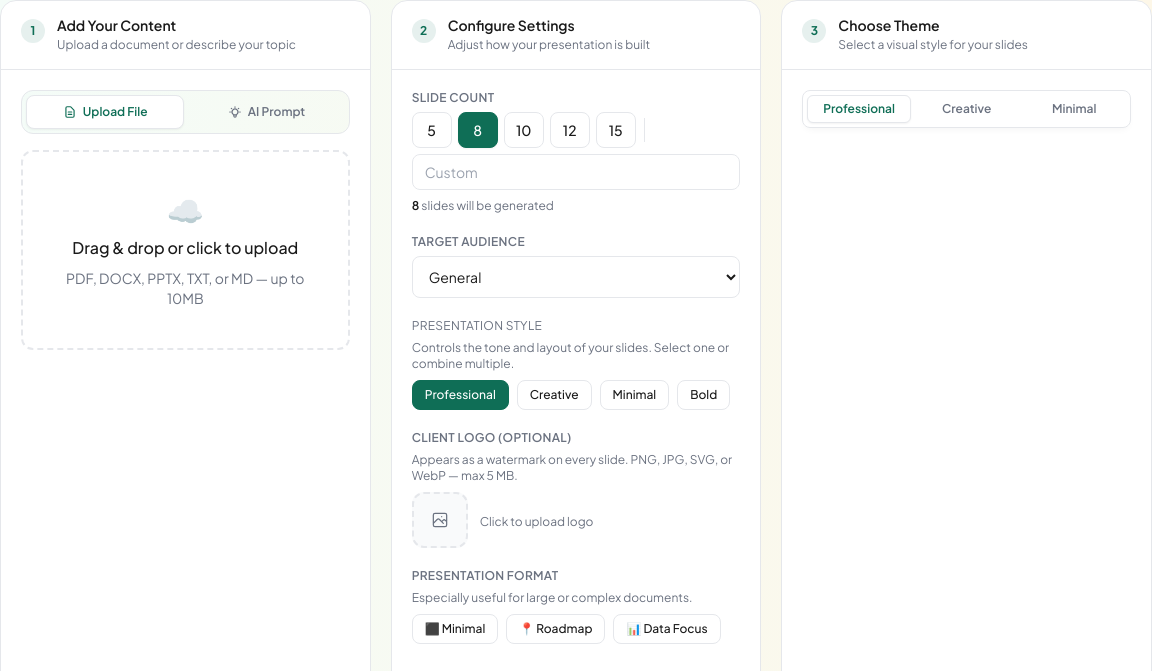
Test: Presentation Format chips › hides PRESENTATION FORMAT section in prompt mode
The width and height of the screenshot is (1152, 671).
Click the button "AI Prompt" at (266, 112), box 188,94 -> 345,128
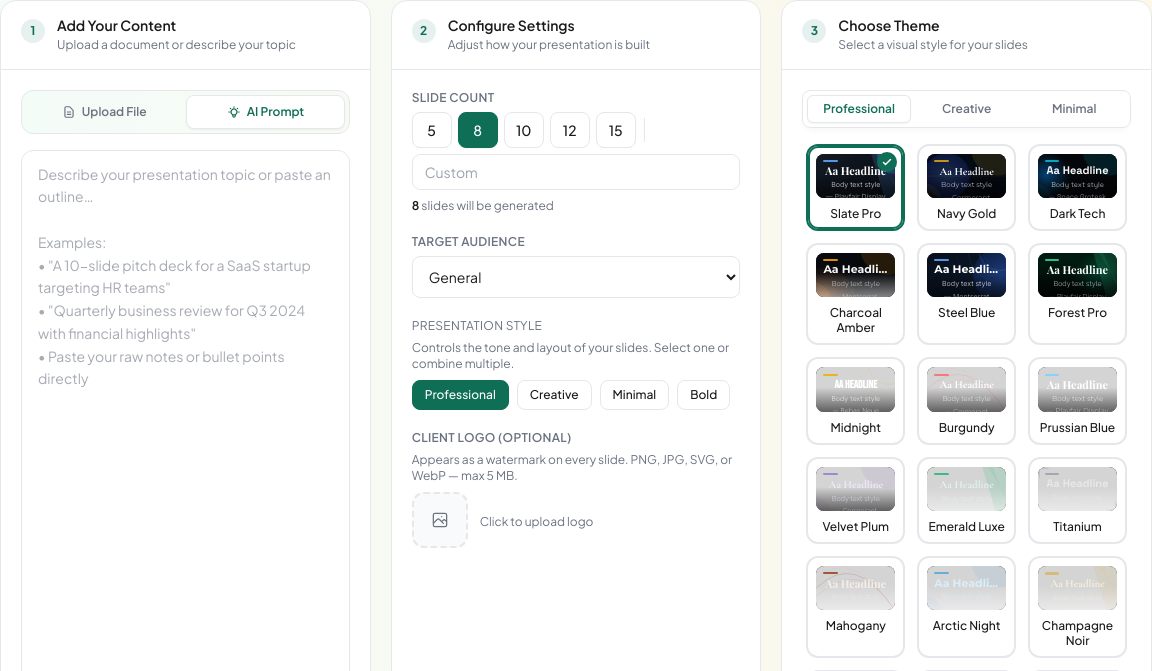
Expected: the text "PRESENTATION FORMAT" is gone
